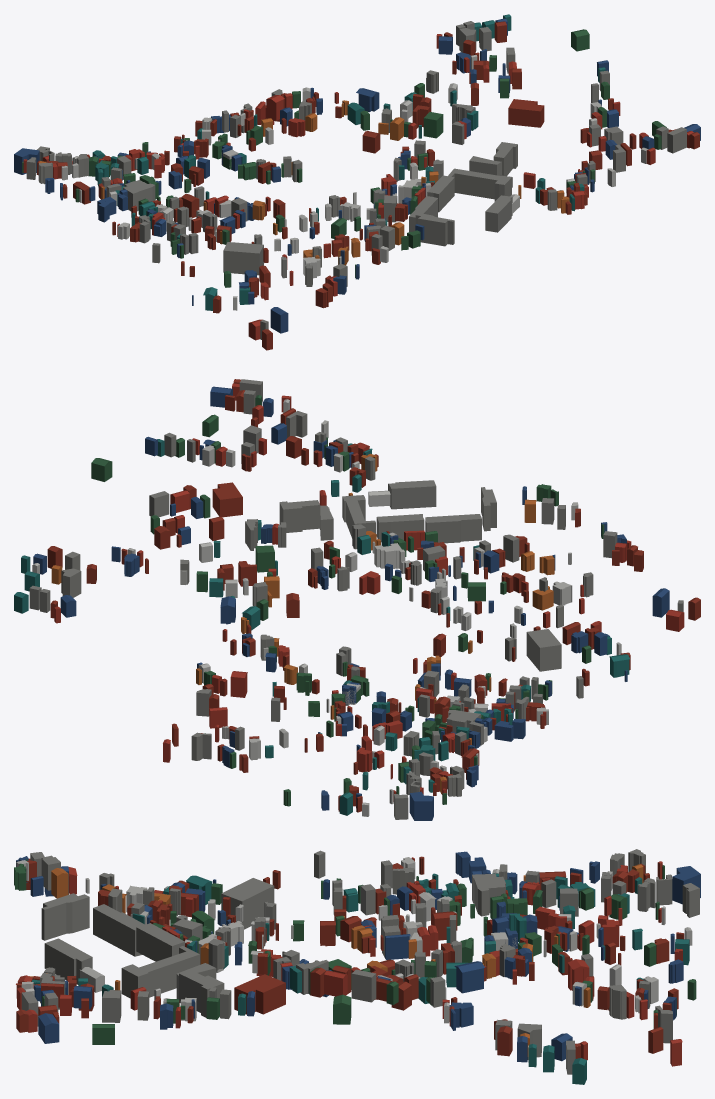
Rendered from near-16-54715-29737.34ed8c5f.glb.
3 views of the same model, one above another, from view 1: azimuth 30°, elevation 25°; view 2: azimuth 150°, elevation 25°; view 3: azimuth 270°, elevation 25° (orthographic). The views are drawn at different scales.
Bounding box in the file's own units: 601 × 189 × 596.
